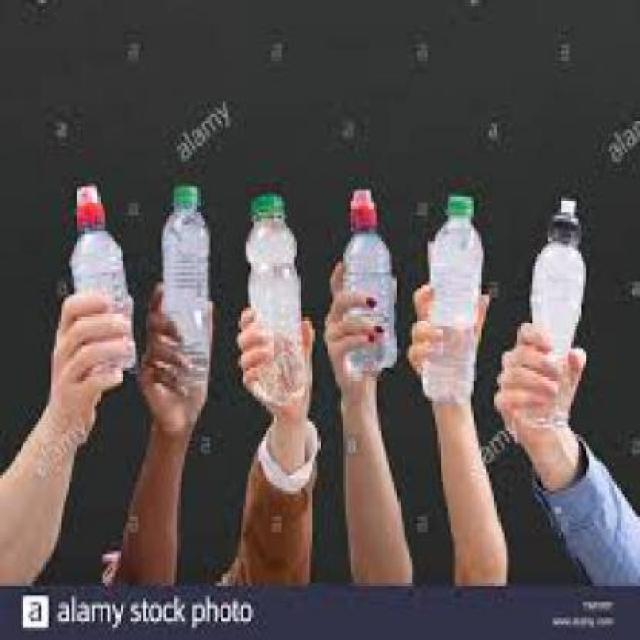Drinking: (139, 175, 223, 399), (241, 180, 322, 409), (411, 174, 487, 412), (522, 187, 595, 431), (335, 178, 402, 396)
